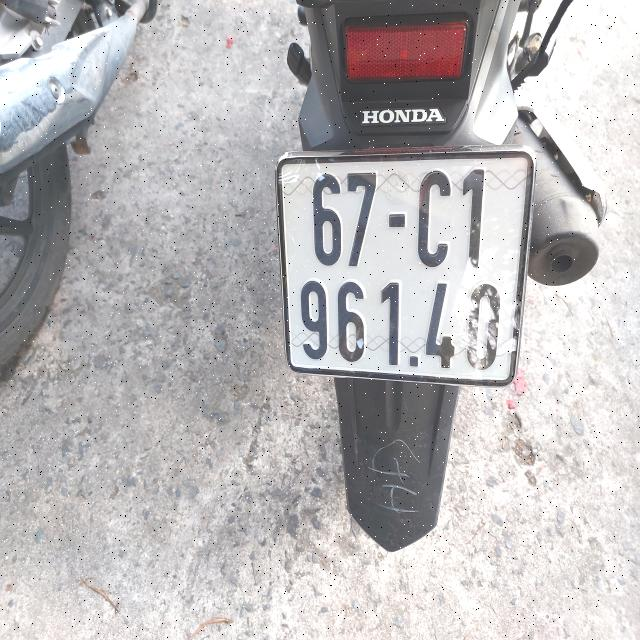0: (464, 281, 507, 378)
1: (460, 161, 497, 269), (379, 277, 405, 368)
4: (424, 278, 454, 370)
6: (310, 173, 345, 265), (337, 279, 369, 362)
7: (344, 167, 382, 268)
9: (295, 276, 334, 366)
C: (414, 170, 452, 273)
